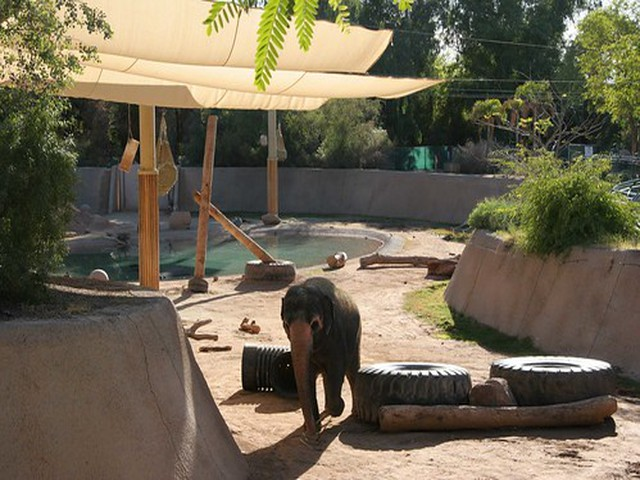Elephant: (280, 275, 363, 439)
